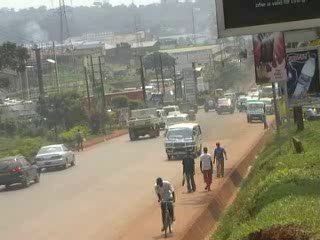Car: (0, 152, 44, 193), (32, 140, 76, 174), (201, 97, 217, 110)
Motorcycle: (186, 107, 197, 121)
